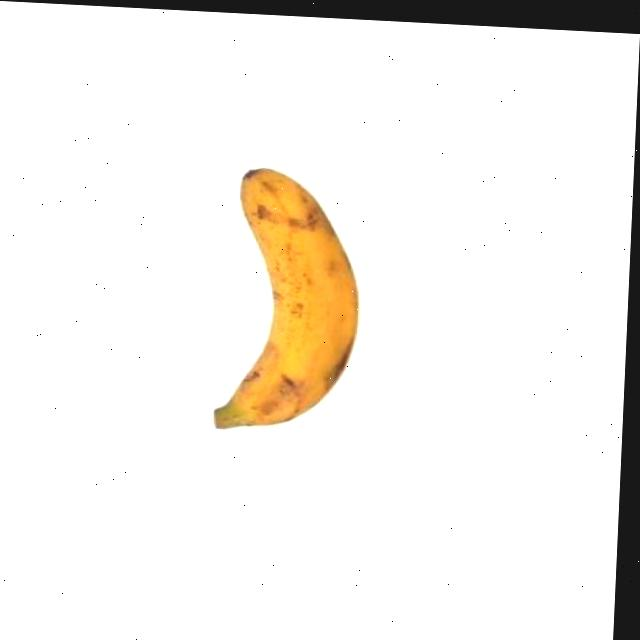banana: (210, 163, 367, 438)
